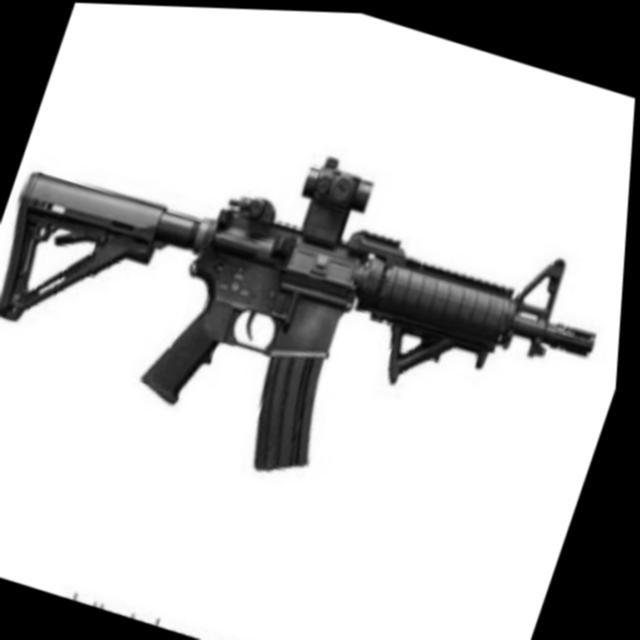weapon: (0, 68, 636, 551)
